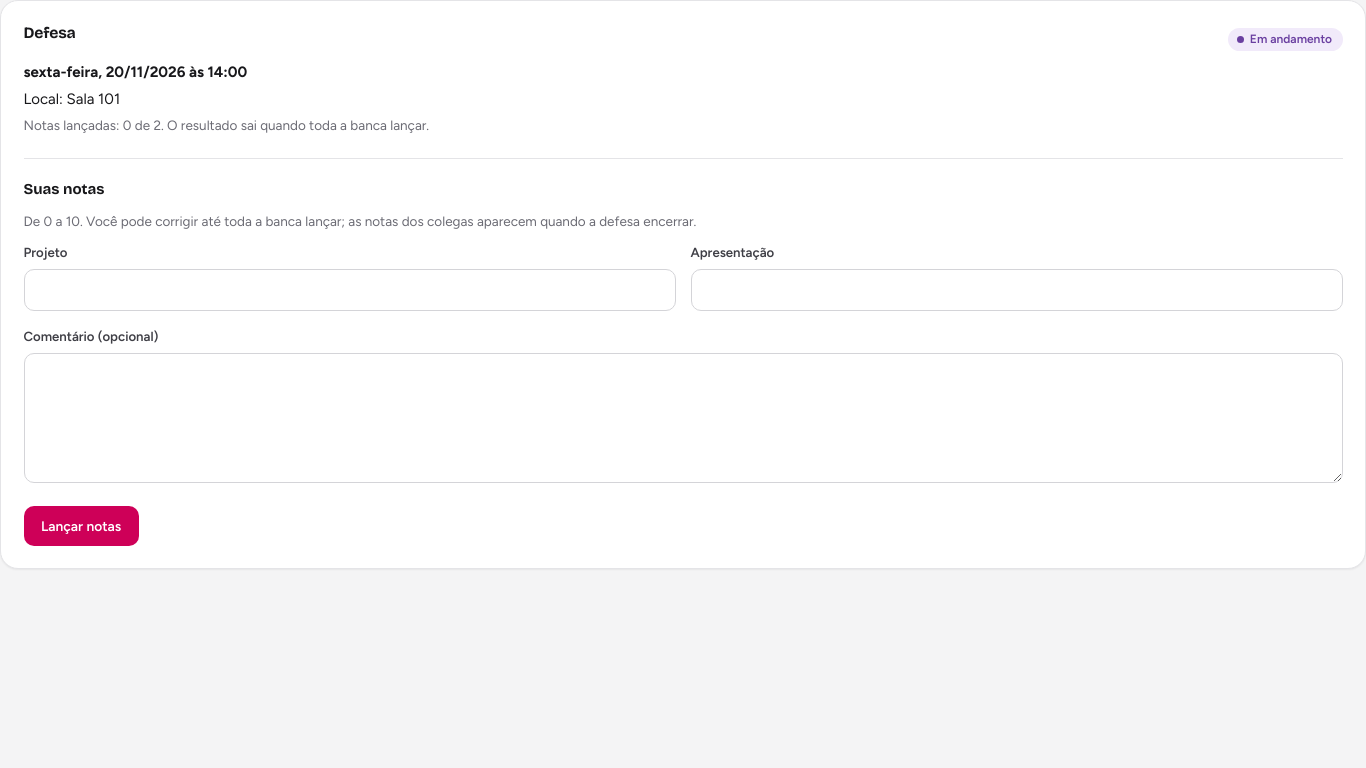
seção da defesa › o avaliador lança as notas aceitando vírgula
The width and height of the screenshot is (1366, 768).
Type "8,5" into the field labelled "Projeto". click: (350,290)
box: left=24, top=269, right=676, bottom=311
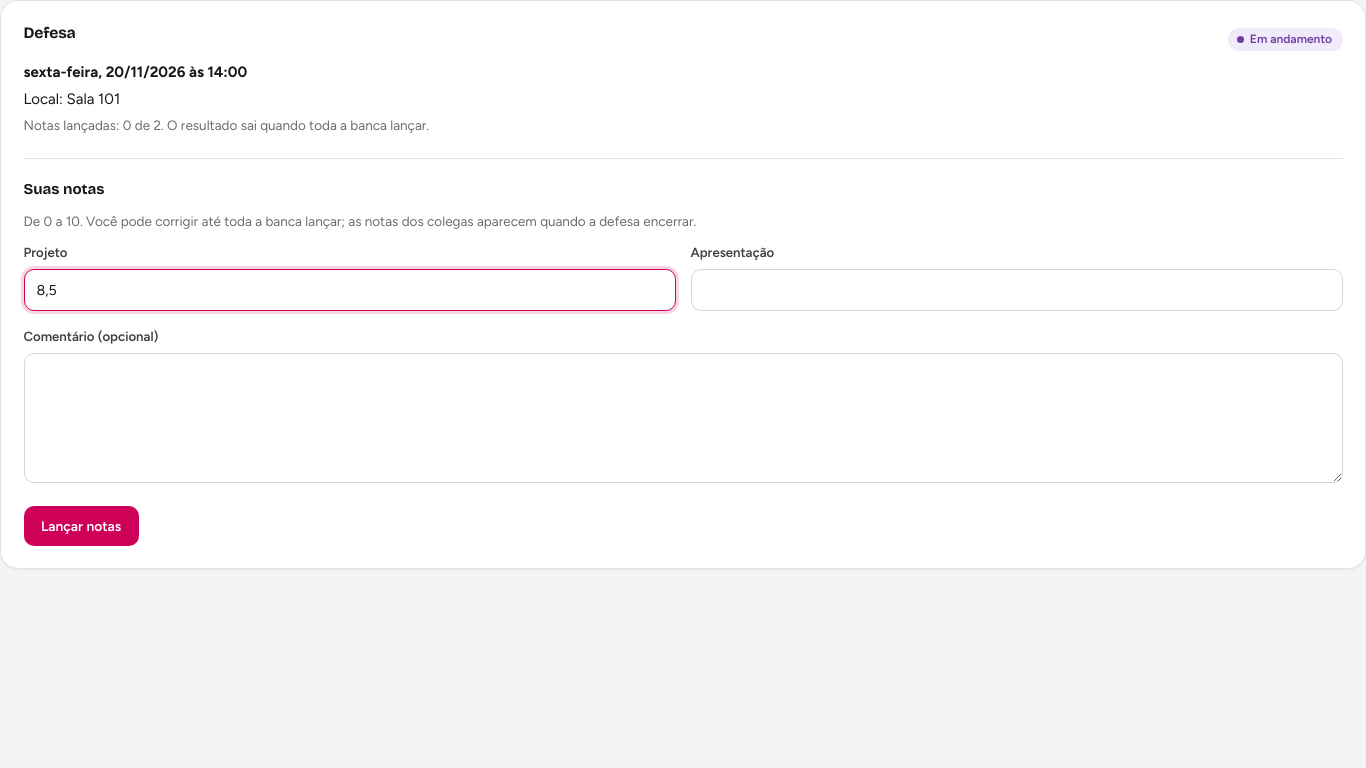
Type "9" into the field labelled "Apresentação". click: (1016,290)
box: left=690, top=269, right=1342, bottom=311
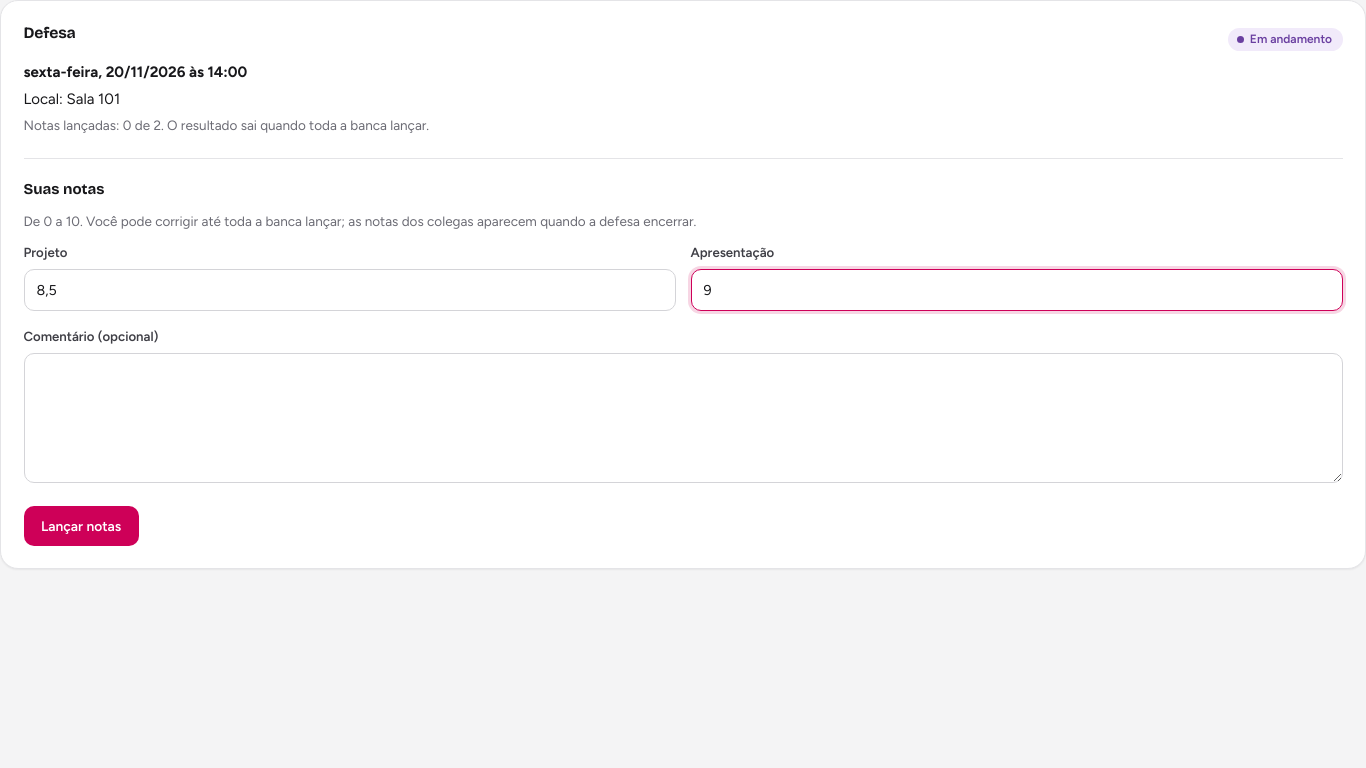
Click the button "Lançar notas". click: (81,526)
box: left=24, top=506, right=139, bottom=546
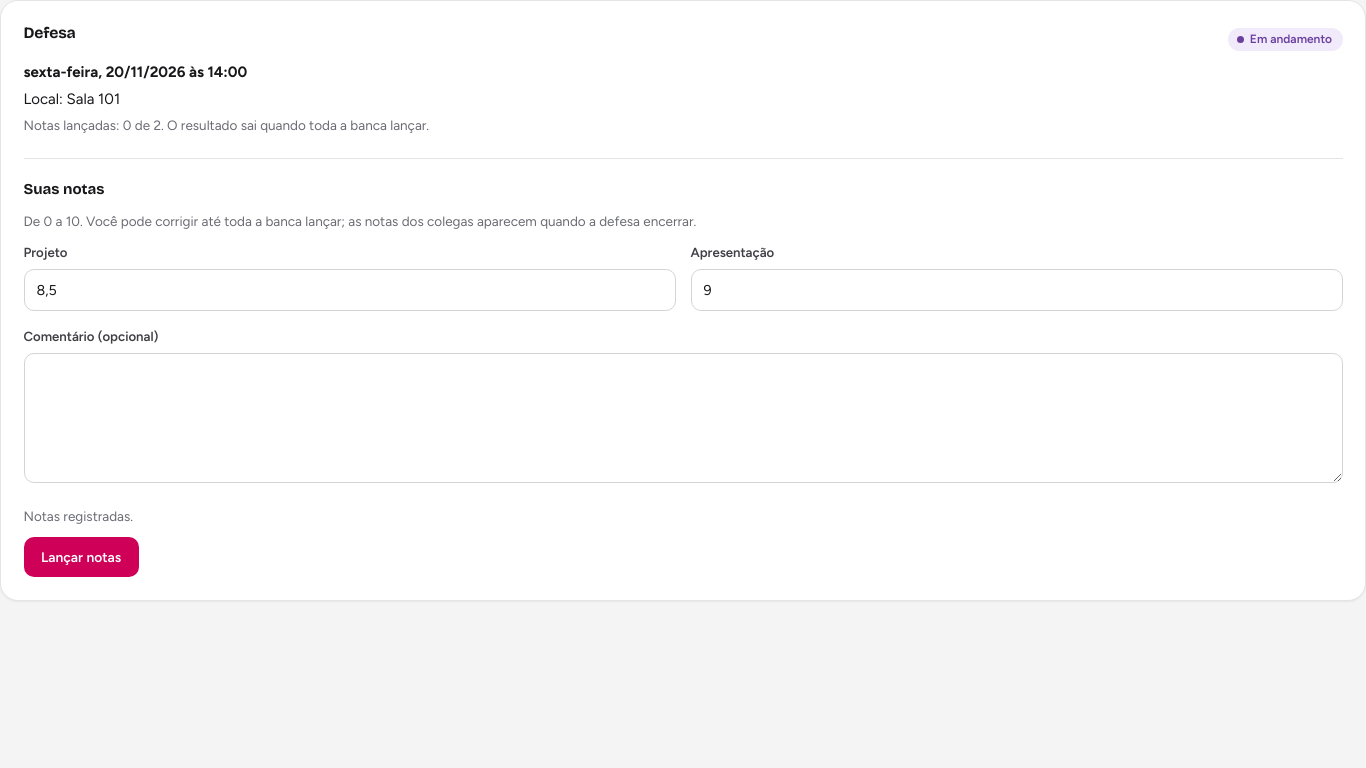
Expected: the text "Notas registradas." is shown, left=24, top=508, right=133, bottom=524
